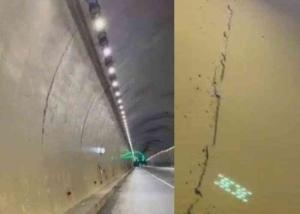Crack: (185, 0, 242, 214)
